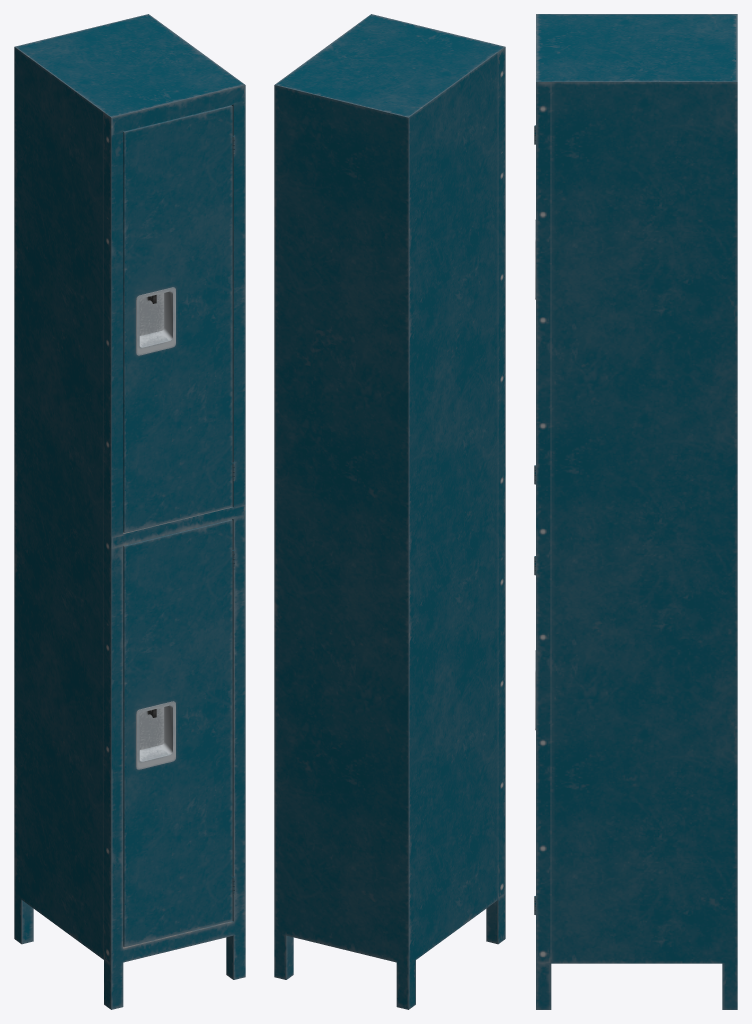
File: LockerRoom.FBX
3 views of the same model, side by side, from view 1: azimuth 30°, elevation 25°; view 2: azimuth 150°, elevation 25°; view 3: azimuth 270°, elevation 25° (orthographic). The views are drawn at different scales.
Visible parts, largest first — view 1: LockerRoom, DoorA, DoorB; view 2: LockerRoom; view 3: LockerRoom.
Part boxes in pixels (x1=…): LockerRoom: x1=14, y1=14, x2=245, y2=1009; DoorA: x1=123, y1=105, x2=232, y2=532; DoorB: x1=123, y1=519, x2=232, y2=947; LockerRoom: x1=274, y1=14, x2=505, y2=1009; LockerRoom: x1=534, y1=14, x2=737, y2=1009.
Size of the model in its own units: 30.48 by 194 by 38.43.
